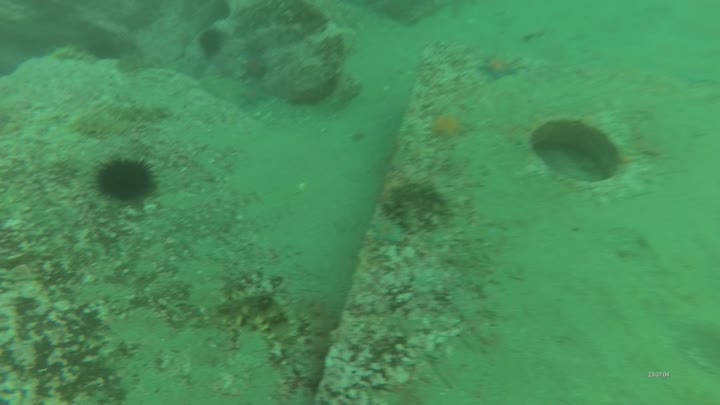echinus: (89, 157, 159, 207), (198, 28, 227, 58)
holothurian: (216, 290, 299, 344), (385, 184, 448, 214), (384, 198, 419, 235)
starfish: (431, 111, 475, 139), (479, 54, 525, 80), (238, 50, 273, 80), (233, 85, 266, 110)
